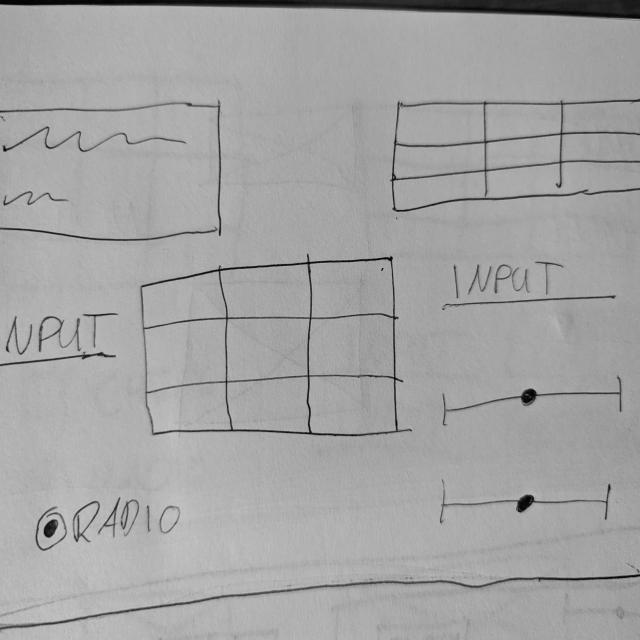input: (437, 253, 621, 313)
radio: (33, 493, 185, 560)
table: (138, 256, 404, 442), (389, 97, 640, 220)
textarea: (1, 99, 226, 247)
